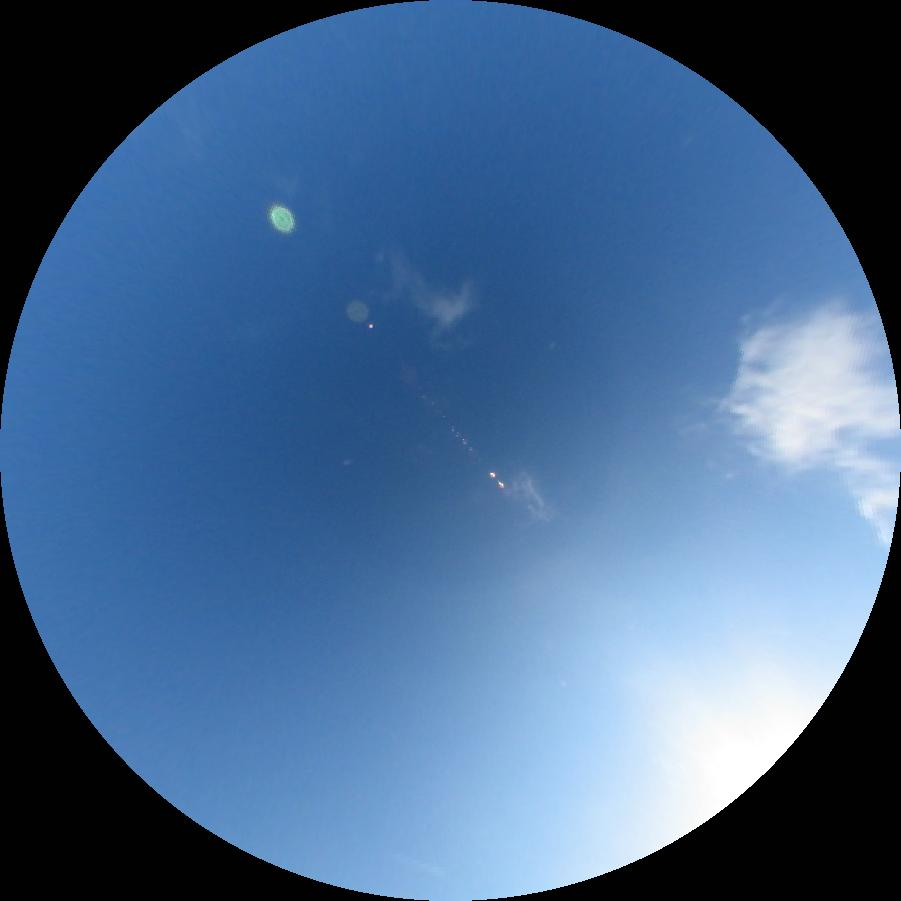sun: (675, 716, 804, 833)
